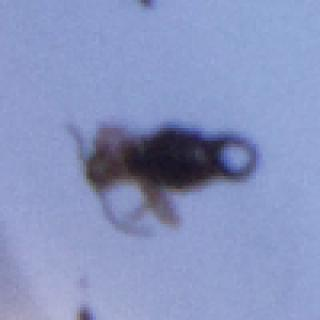earwig: (60, 111, 263, 239)
